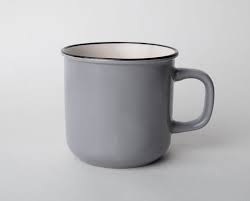cup: (61, 28, 219, 173)
